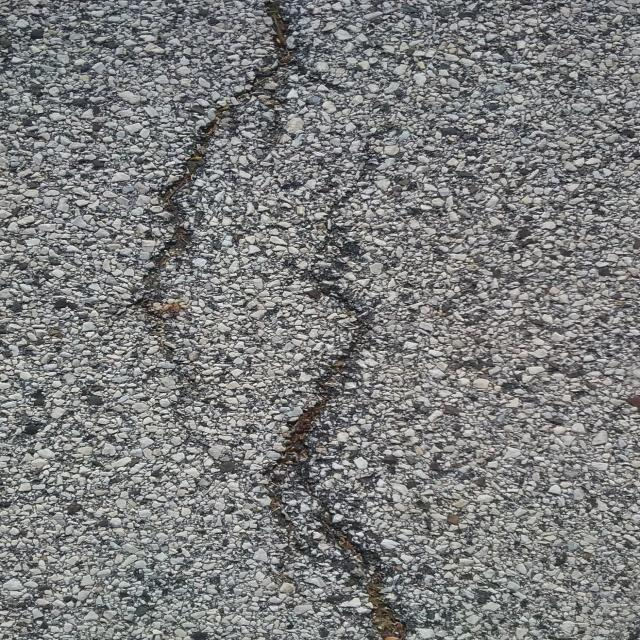Crack: (135, 0, 347, 407), (263, 267, 425, 640)
